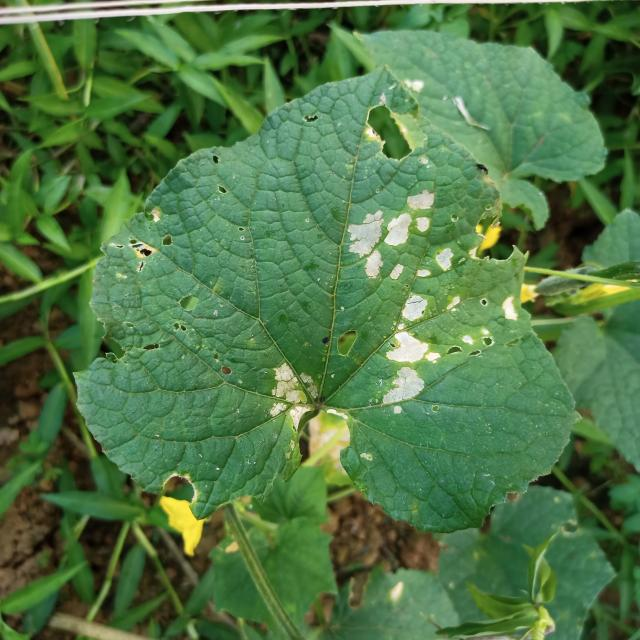disease_cucumber: (344, 167, 464, 417), (253, 355, 320, 438)
